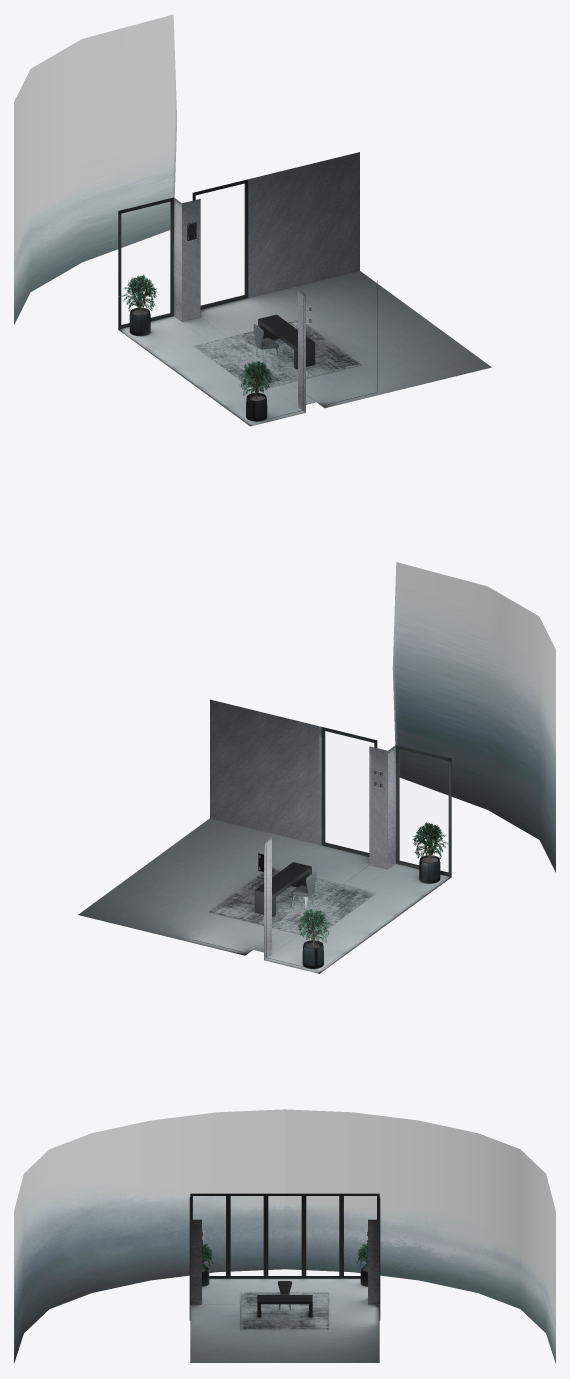
File: office.glb
The picture shows the model from 3 angles, top to bottom: view 1: azimuth 30°, elevation 25°; view 2: azimuth 150°, elevation 25°; view 3: azimuth 270°, elevation 25°; orthographic projection. The views are drawn at different scales.
Visible parts, largest first — view 1: Minimalistic Modern Office_Structure_0, Minimalistic Modern Office_Background_0, Carpet_Carpet_0, Minimalistic Modern Office_Plants_0, Minimalistic Modern Office_Table_0; view 2: Minimalistic Modern Office_Structure_0, Minimalistic Modern Office_Background_0, Carpet_Carpet_0, Minimalistic Modern Office_Plants_0, Minimalistic Modern Office_Table_0; view 3: Minimalistic Modern Office_Background_0, Minimalistic Modern Office_Structure_0, Carpet_Carpet_0, Minimalistic Modern Office_Plants_0, Minimalistic Modern Office_Table_0.
Part boxes in pixels (bbox=[...]): Minimalistic Modern Office_Structure_0: bbox=[118, 152, 491, 426]; Minimalistic Modern Office_Background_0: bbox=[14, 14, 177, 324]; Carpet_Carpet_0: bbox=[194, 320, 360, 389]; Minimalistic Modern Office_Plants_0: bbox=[118, 275, 272, 421]; Minimalistic Modern Office_Table_0: bbox=[258, 314, 315, 369]; Minimalistic Modern Office_Structure_0: bbox=[78, 699, 451, 973]; Minimalistic Modern Office_Background_0: bbox=[392, 562, 555, 872]; Carpet_Carpet_0: bbox=[209, 868, 376, 936]; Minimalistic Modern Office_Plants_0: bbox=[297, 822, 450, 968]; Minimalistic Modern Office_Table_0: bbox=[254, 862, 311, 916]; Minimalistic Modern Office_Background_0: bbox=[14, 1109, 555, 1363]; Minimalistic Modern Office_Structure_0: bbox=[189, 1193, 380, 1362]; Carpet_Carpet_0: bbox=[241, 1292, 328, 1329]; Minimalistic Modern Office_Plants_0: bbox=[188, 1243, 381, 1286]; Minimalistic Modern Office_Table_0: bbox=[257, 1295, 312, 1317].
Bounding box in the file's own units: 13.11 × 8.11 × 24.91.
9 materials, 7 textured.
